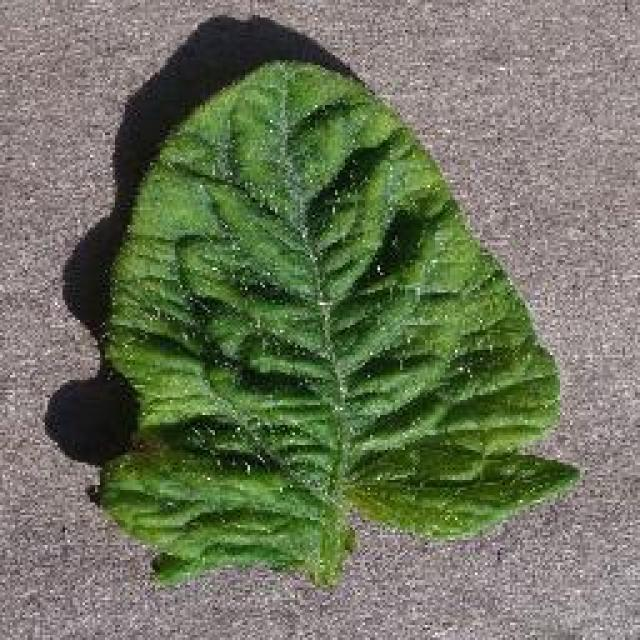Tom_Yellow_Leaf_Curl_Virus: (150, 92, 552, 558)
